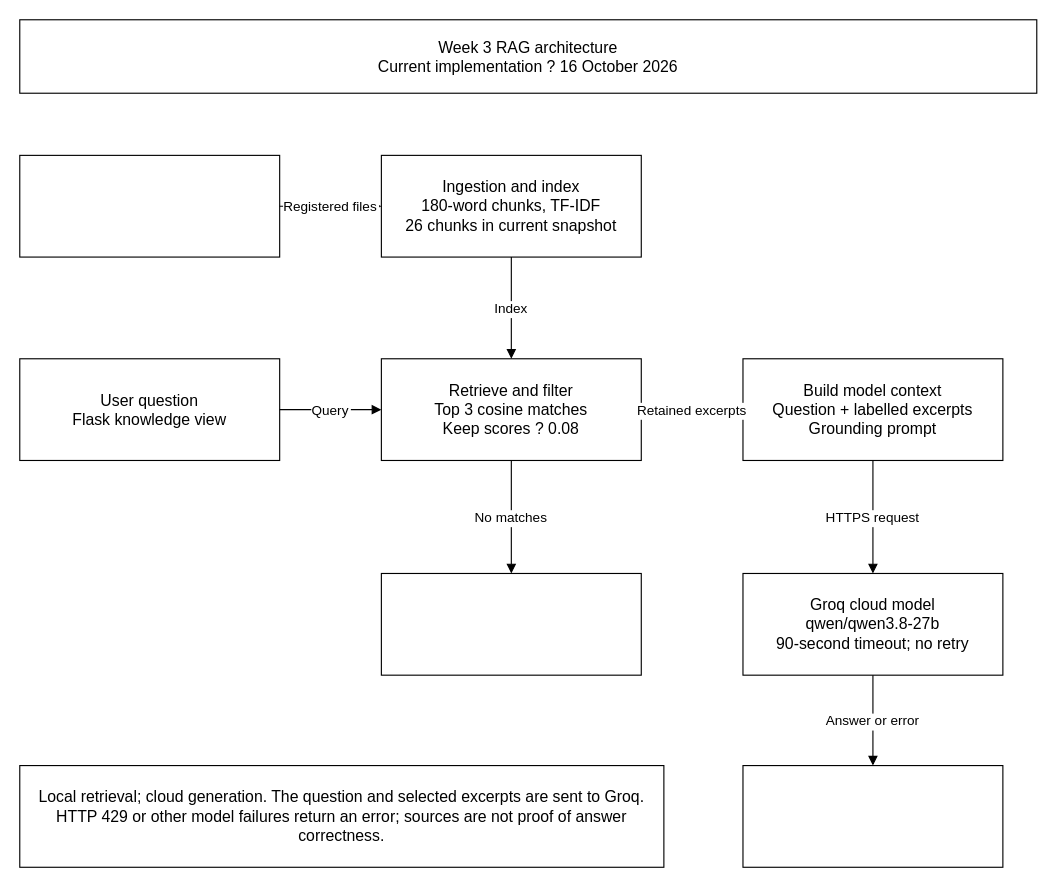
This 1057x887 diagram has some shape labels left out. The shapes that lost their labels are listed below. From the top down, each one's centre as x and y in pixels, then its label:
At point (149, 205): "Authorised source register 5 project documents Local Markdown retrieval copies".
At point (510, 623): "No retained evidence Return insufficient information No model request".
At point (872, 815): "Response and evidence Show answer and source excerpts Claims still need review".
